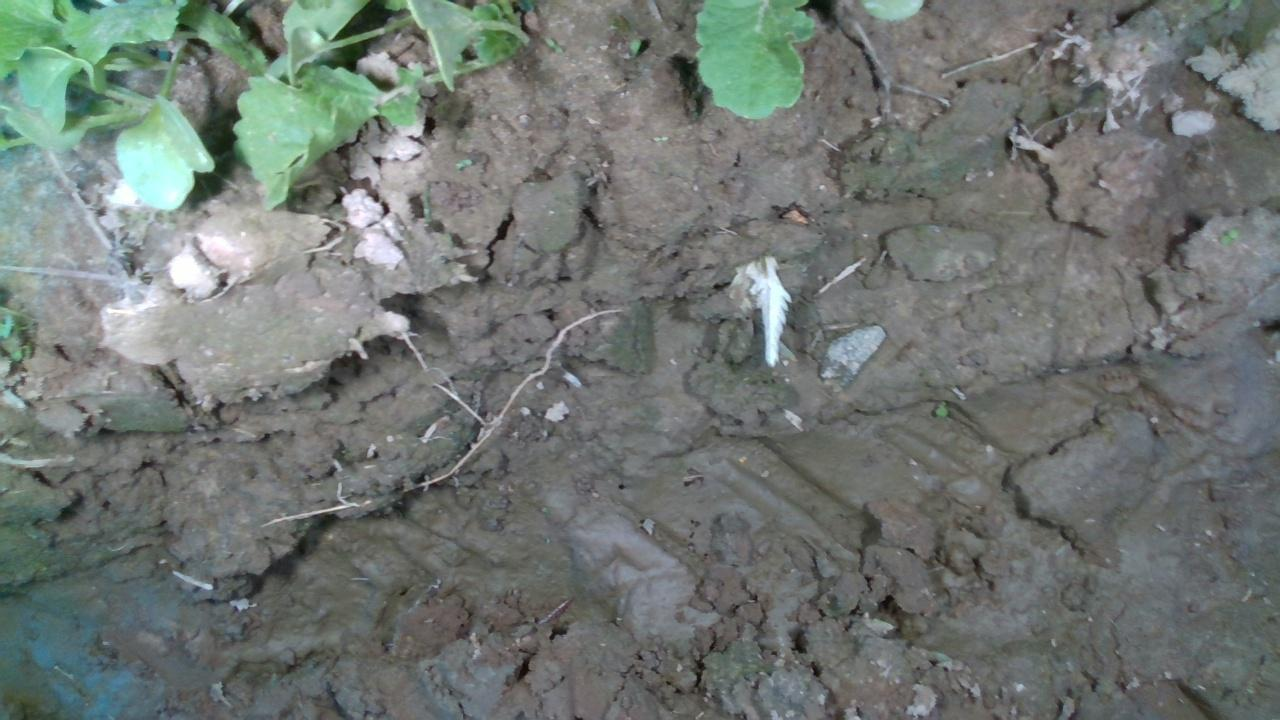weed: (1217, 226, 1240, 245), (543, 35, 564, 55), (453, 155, 472, 169)
